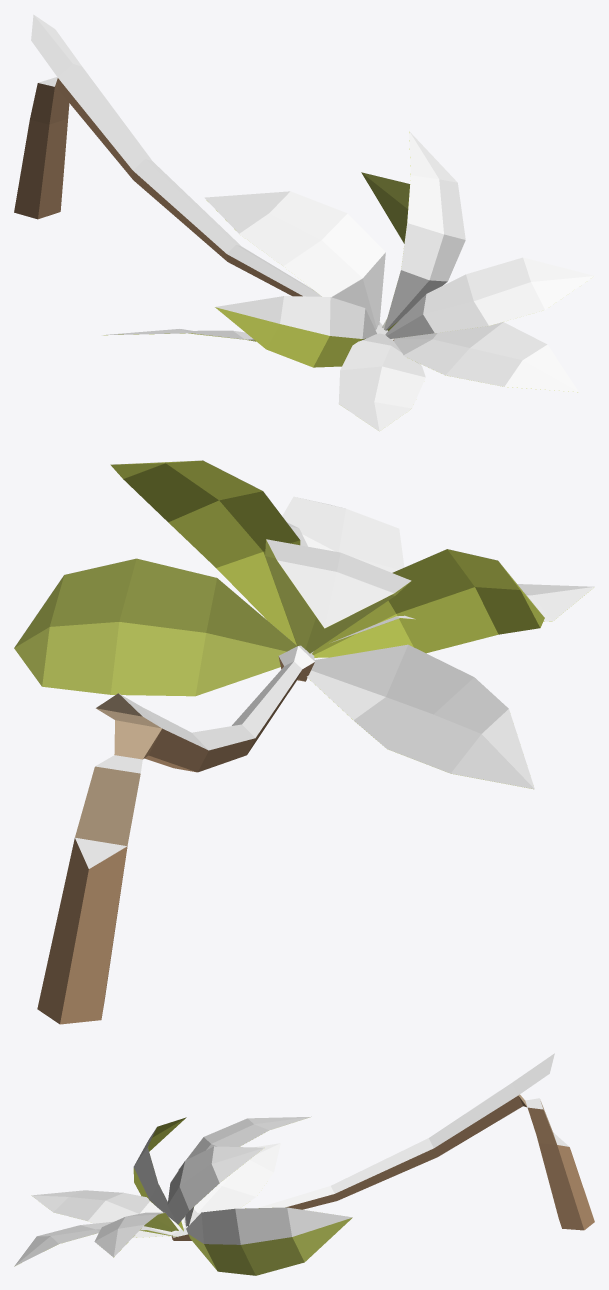
File: Palm_Tree_crk_l_Snow_02.fbx
The picture shows the model from 3 angles, top to bottom: view 1: azimuth 30°, elevation 25°; view 2: azimuth 150°, elevation 25°; view 3: azimuth 270°, elevation 25°; orthographic projection. The views are drawn at different scales.
Visible parts, largest first — view 1: Palm_Tree_crk_l_Snow_02; view 2: Palm_Tree_crk_l_Snow_02; view 3: Palm_Tree_crk_l_Snow_02.
Boxes of the visible parts, bbox=[...] form: Palm_Tree_crk_l_Snow_02: bbox=[14, 14, 594, 431]; Palm_Tree_crk_l_Snow_02: bbox=[14, 460, 594, 1024]; Palm_Tree_crk_l_Snow_02: bbox=[14, 1053, 594, 1275].
Bounding box in the file's own units: 494 × 255 × 820.
